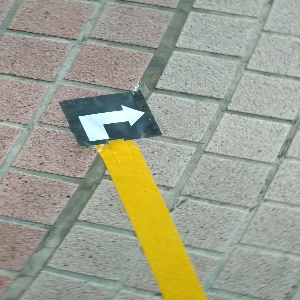right: (59, 90, 160, 147)
